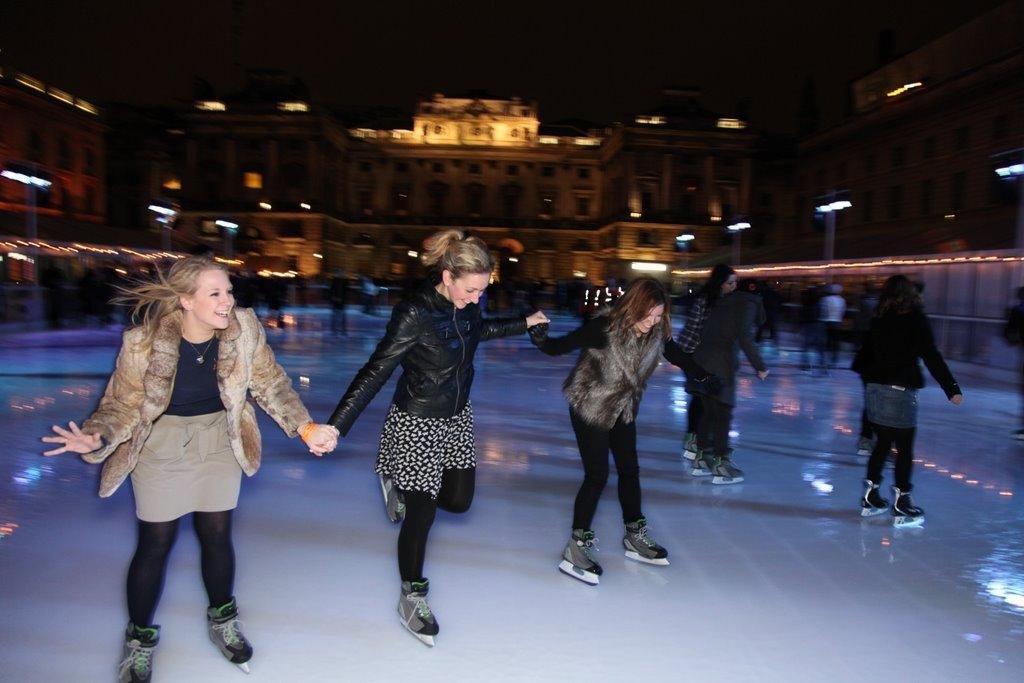face: (193, 270, 234, 329), (452, 272, 491, 310), (639, 302, 664, 333), (724, 274, 737, 294)
